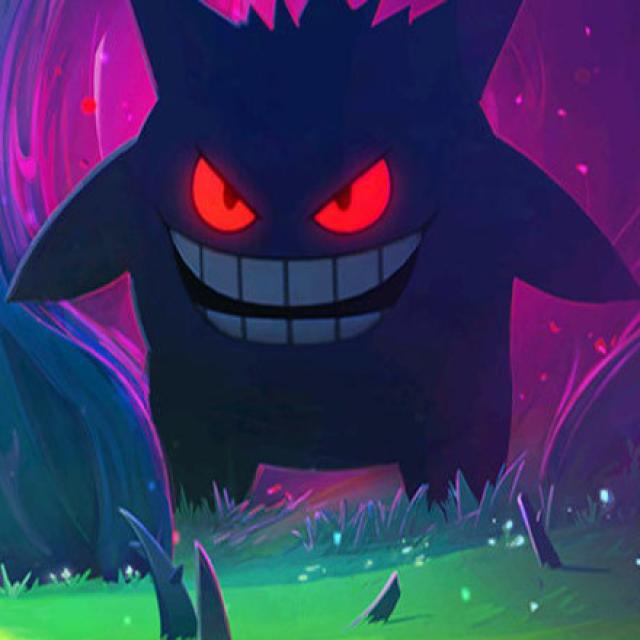Gengar: (31, 0, 613, 500)
